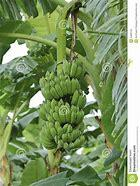banana: (33, 59, 91, 161)
